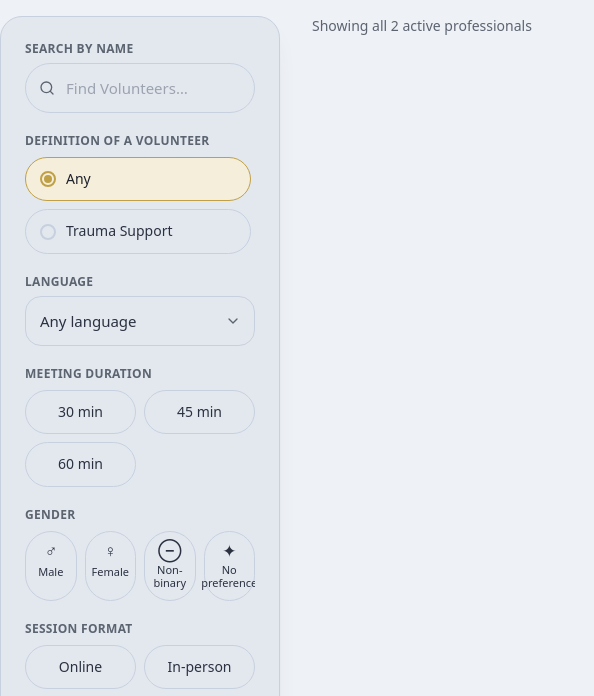
Test: TherapistsDirectory › filters by name search
The image size is (594, 696).
In the field with placeholder "Find Volunteers…": (140, 88) [25, 63, 255, 113], type "amir"
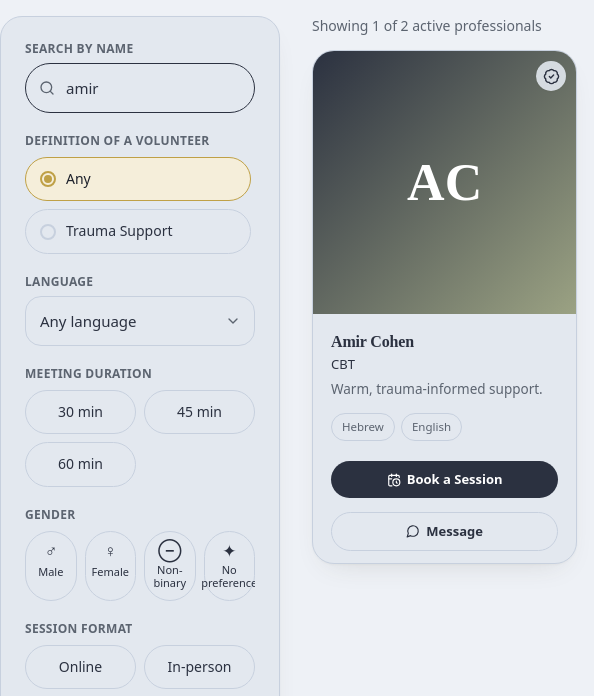
Expected: the heading "Amir Cohen" is shown, [331, 333, 414, 350]
Expected: the text "Showing 1 of 2 active professionals" is shown, [312, 16, 542, 35]
